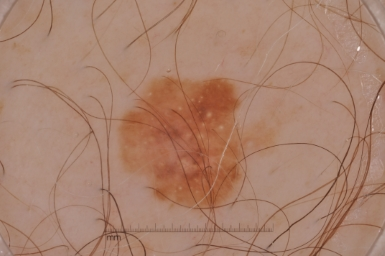seborrheic keratosis: (107, 61, 261, 211)
